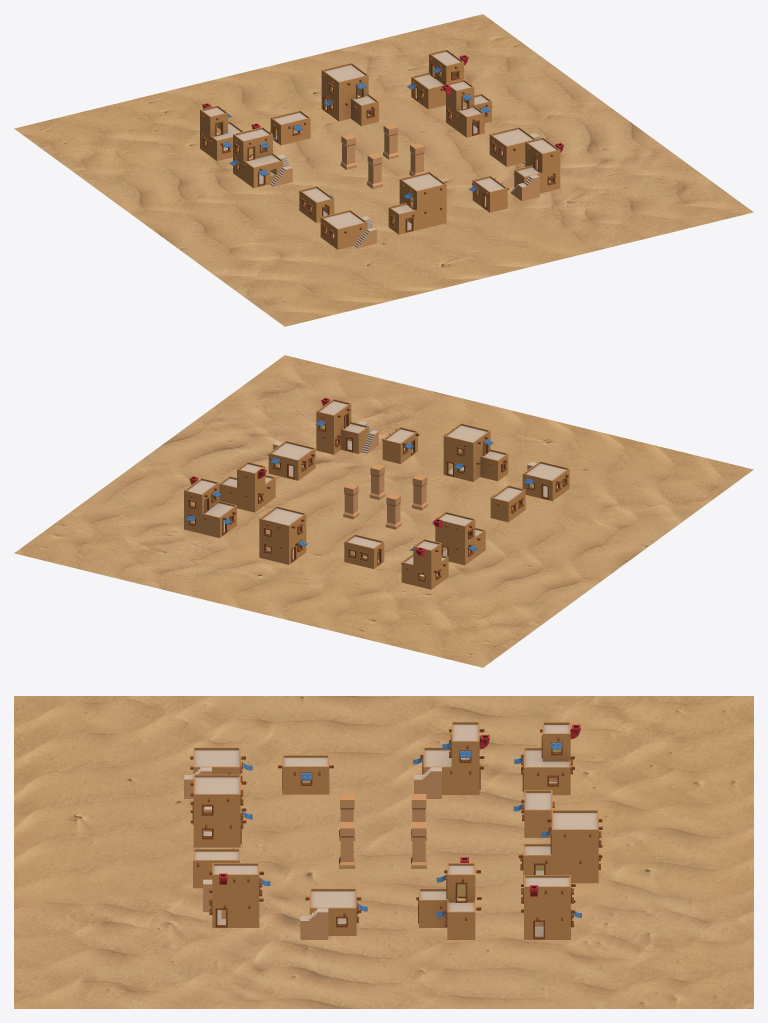
File: low-poly-desert-village.glb
The picture shows the model from 3 angles, top to bottom: view 1: azimuth 30°, elevation 25°; view 2: azimuth 150°, elevation 25°; view 3: azimuth 270°, elevation 25°; orthographic projection. The views are drawn at different scales.
Parts seen in each view (by area): view 1: Plane001, house_015, house_020, house_016, house_013, house_019, house_012, house_014, house_010, house_021, house_018, house_009 (+2 smaller); view 2: Plane001, house_015, house_019, house_020, house_012, house_016, house_013, house_014, house_021, house_010, house_018, house_009 (+1 smaller); view 3: Plane001, house_020, house_015, house_013, house_016, house_012, house_019, house_014, house_021, house_011, house_018, house_010 (+5 smaller).
Boxes of the visible parts, x1,y1,x2,y2 form: Plane001: (14,14,753,326); house_015: (388,171,446,234); house_020: (321,63,378,126); house_016: (229,123,283,188); house_013: (442,79,491,137); house_019: (407,49,468,109); house_012: (514,137,563,193); house_014: (200,103,243,161); house_010: (320,210,367,249); house_021: (489,127,535,166); house_018: (270,110,310,145); house_009: (469,175,508,212); Plane001: (14,355,753,667); house_015: (443,423,508,481); house_019: (184,476,236,538); house_020: (259,506,307,564); house_012: (315,398,368,454); house_016: (432,511,485,565); house_013: (219,462,275,512); house_014: (401,539,448,589); house_021: (268,441,315,480); house_010: (522,461,569,501); house_018: (344,534,384,568); house_009: (382,427,419,463); Plane001: (14,696,753,1008); house_020: (518,810,602,883); house_015: (190,774,252,847); house_013: (416,857,481,939); house_016: (413,722,489,794); house_012: (209,863,270,927); house_019: (521,875,581,939); house_014: (514,722,580,795); house_021: (305,888,367,935); house_011: (278,755,333,794); house_018: (513,790,554,837); house_010: (190,747,252,782).
Size of the model in its own units: 7874 by 650 by 7874.
2 materials, 2 textured.
